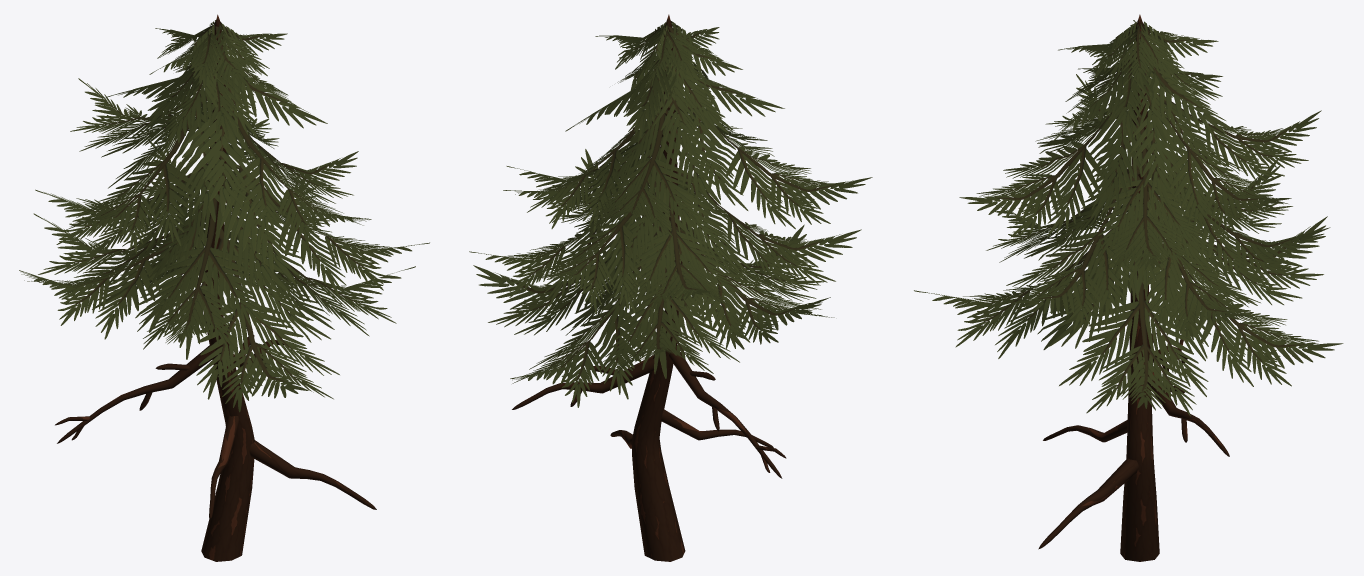
Rendered from pine_tree_3.glb.
3 renders of one model, left to right at view 1: azimuth 30°, elevation 25°; view 2: azimuth 150°, elevation 25°; view 3: azimuth 270°, elevation 25°, orthographic.
Parts seen in each view (by area): view 1: PineTree_32; view 2: PineTree_32; view 3: PineTree_32.
Boxes of the visible parts, bbox=[...] form: PineTree_32: bbox=[19, 14, 429, 561]; PineTree_32: bbox=[469, 14, 872, 561]; PineTree_32: bbox=[914, 14, 1343, 561].
Bounding box in the file's own units: 1.76 × 2.35 × 1.75.
2 materials, 2 textured.
